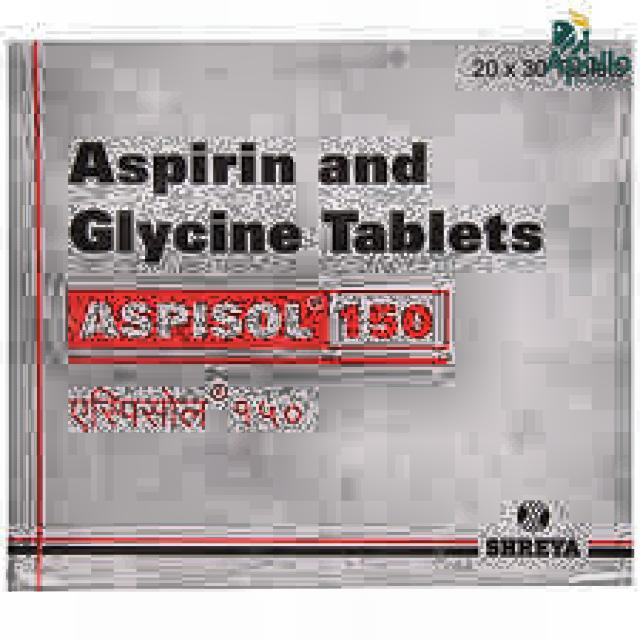Aspirin: (10, 39, 632, 582)
